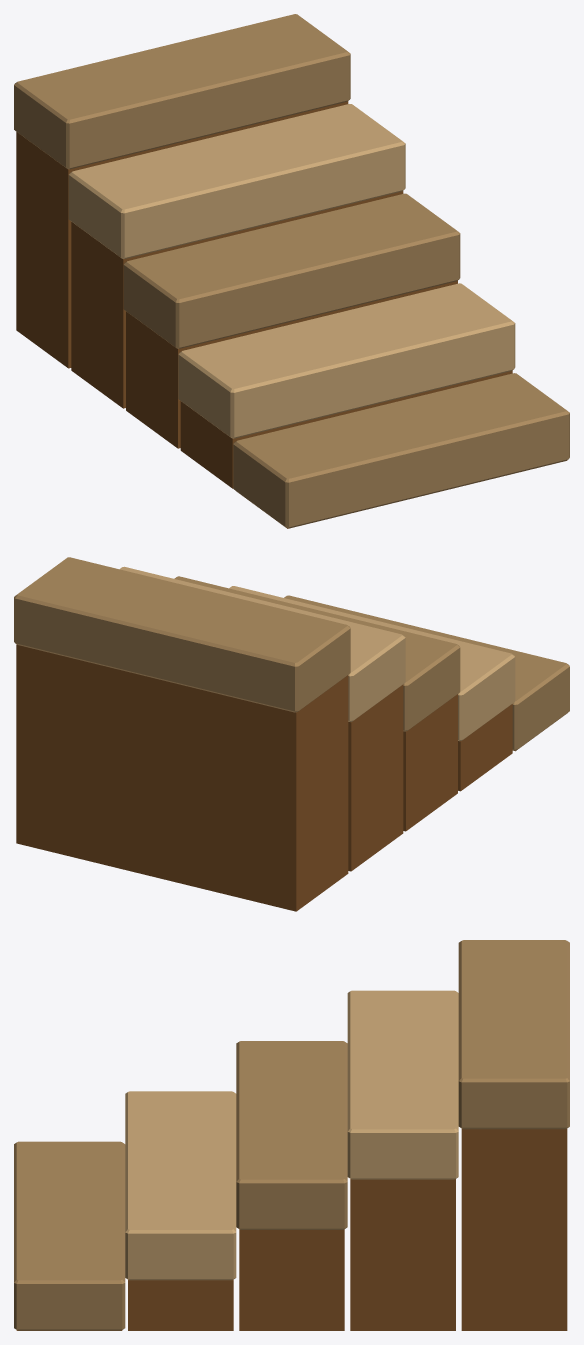
File: stairs_1m.glb
The picture shows the model from 3 angles, top to bottom: view 1: azimuth 30°, elevation 25°; view 2: azimuth 150°, elevation 25°; view 3: azimuth 270°, elevation 25°; orthographic projection.
Visible parts, largest first — view 1: stairs_1m; view 2: stairs_1m; view 3: stairs_1m.
Part boxes in pixels (bbox=[...]): stairs_1m: bbox=[14, 14, 569, 528]; stairs_1m: bbox=[14, 557, 569, 911]; stairs_1m: bbox=[14, 940, 569, 1330].
Size of the model in its own units: 1.2 by 1 by 2.
